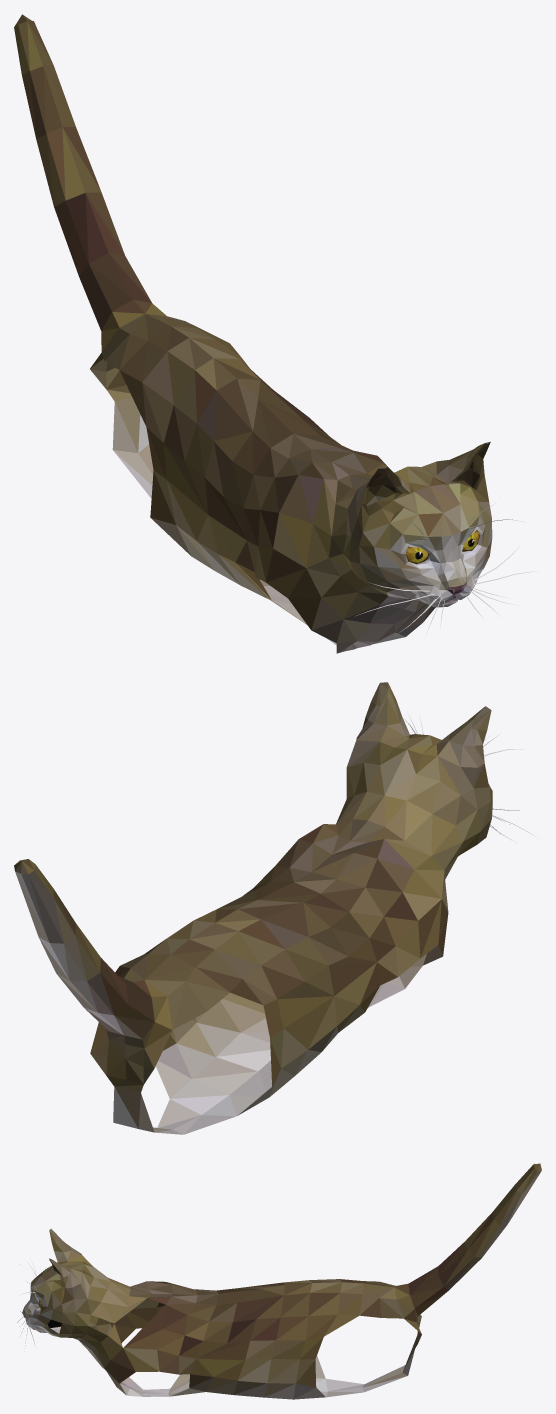
Rendered from CuerpoGato.obj.
The picture shows the model from 3 angles, top to bottom: view 1: azimuth 30°, elevation 25°; view 2: azimuth 150°, elevation 25°; view 3: azimuth 270°, elevation 25°; orthographic projection. The views are drawn at different scales.
Parts seen in each view (by area): view 1: CuerpoGato1:Object004 group; view 2: CuerpoGato1:Object004 group; view 3: CuerpoGato1:Object004 group.
Boxes of the visible parts, x1,y1,x2,y2 form: CuerpoGato1:Object004 group: [14, 14, 538, 653]; CuerpoGato1:Object004 group: [14, 682, 533, 1134]; CuerpoGato1:Object004 group: [17, 1163, 541, 1399].
Size of the model in its own units: 0.3975 by 0.7828 by 1.62.
Materials: 1 (1 with a texture image).
